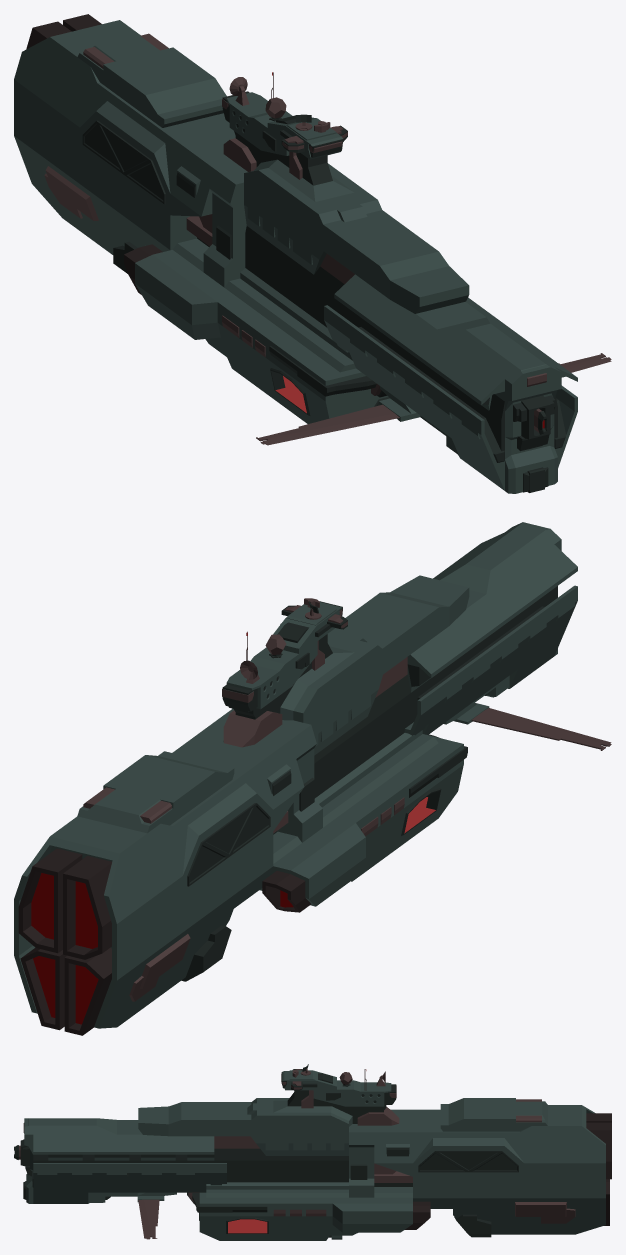
The model's file is battleship1.gltf.
3 renders of one model, top to bottom at view 1: azimuth 30°, elevation 25°; view 2: azimuth 150°, elevation 25°; view 3: azimuth 270°, elevation 25°, orthographic. The views are drawn at different scales.
Visible parts, largest first — view 1: group_0.101; view 2: group_0.101; view 3: group_0.101.
Part boxes in pixels (x1,y1,x2,y2): group_0.101: [14, 14, 611, 493]; group_0.101: [14, 522, 611, 1035]; group_0.101: [14, 1064, 611, 1240].
Bounding box in the file's own units: 19.24 × 14.29 × 46.36.
Materials: 1 (1 with a texture image).
